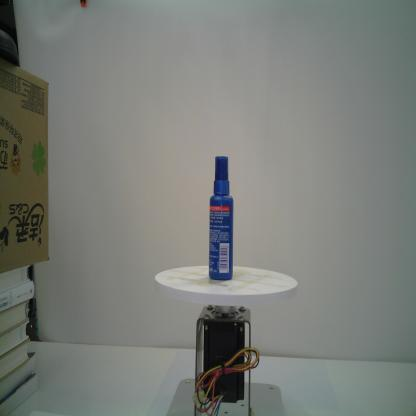Personal Hygiene: (206, 154, 236, 284)
